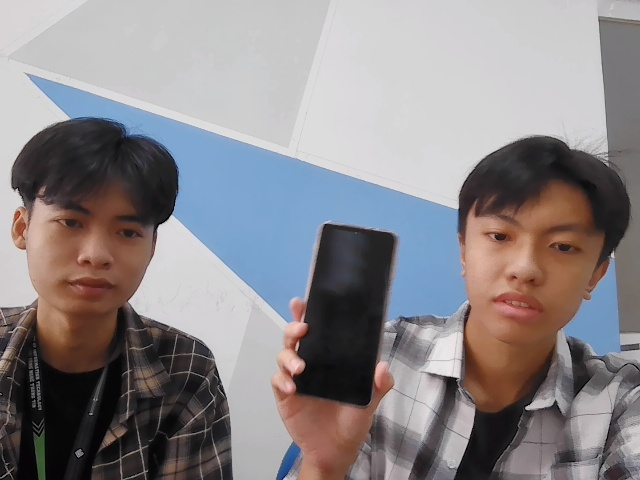human: (453, 129, 626, 337), (13, 116, 177, 312)
phone: (286, 218, 405, 406)
